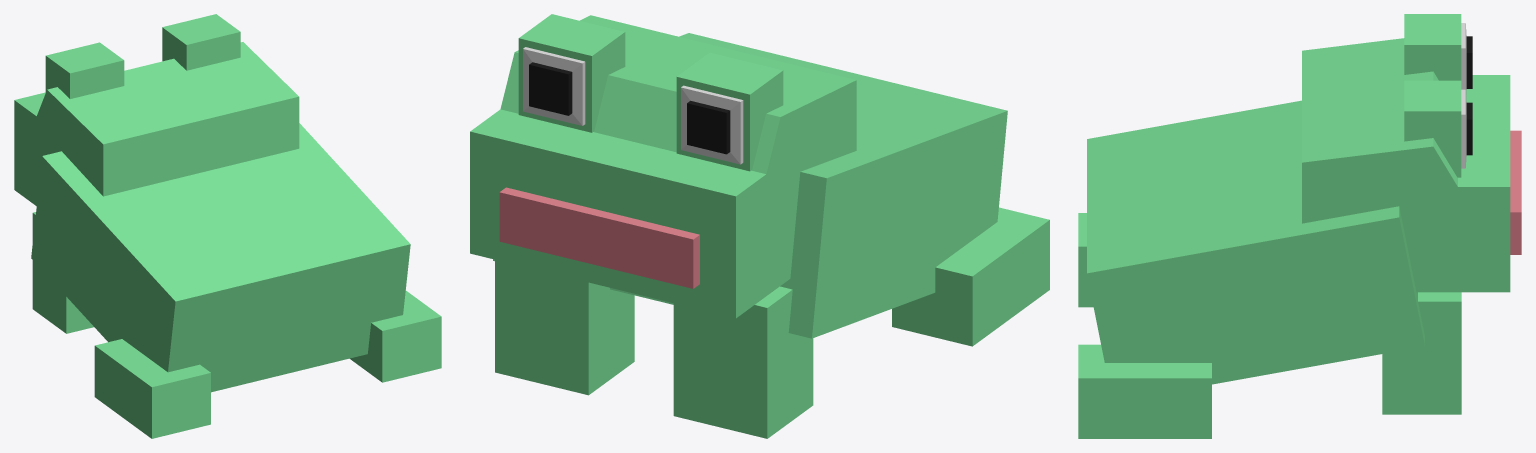
File: Frog.fbx
The picture shows the model from 3 angles, left to right: view 1: azimuth 30°, elevation 25°; view 2: azimuth 150°, elevation 25°; view 3: azimuth 270°, elevation 25°; orthographic projection. The views are drawn at different scales.
Visible parts, largest first — view 1: Body, Head, LeftBackLeg, RightBackLeg, EyeLeft, EyeRight, LeftFrontLeg; view 2: Head, Body, LeftFrontLeg, RightFrontLeg, LeftBackLeg, EyeRight, EyeLeft; view 3: Body, Head, RightBackLeg, RightFrontLeg, EyeRight, EyeLeft, LeftBackLeg.
Boxes of the visible parts, x1,y1,x2,y2 form: Body: (31,123,410,392); Head: (14,42,299,205); LeftBackLeg: (94,339,210,438); RightBackLeg: (350,290,441,382); EyeLeft: (45,42,124,98); EyeRight: (162,14,240,70); LeftFrontLeg: (32,212,93,333); Head: (470,15,856,318); Body: (493,33,1007,338); LeftFrontLeg: (673,286,813,438); RightFrontLeg: (495,259,634,395); LeftBackLeg: (892,207,1049,346); EyeRight: (518,14,625,132); EyeLeft: (676,52,783,171); Body: (1087,100,1424,384); Head: (1302,38,1521,292); RightBackLeg: (1078,344,1211,438); RightFrontLeg: (1382,292,1461,414); EyeRight: (1404,80,1472,177); EyeLeft: (1404,14,1472,95); LeftBackLeg: (1078,213,1093,307).
Size of the model in its own units: 176 by 145 by 199.
